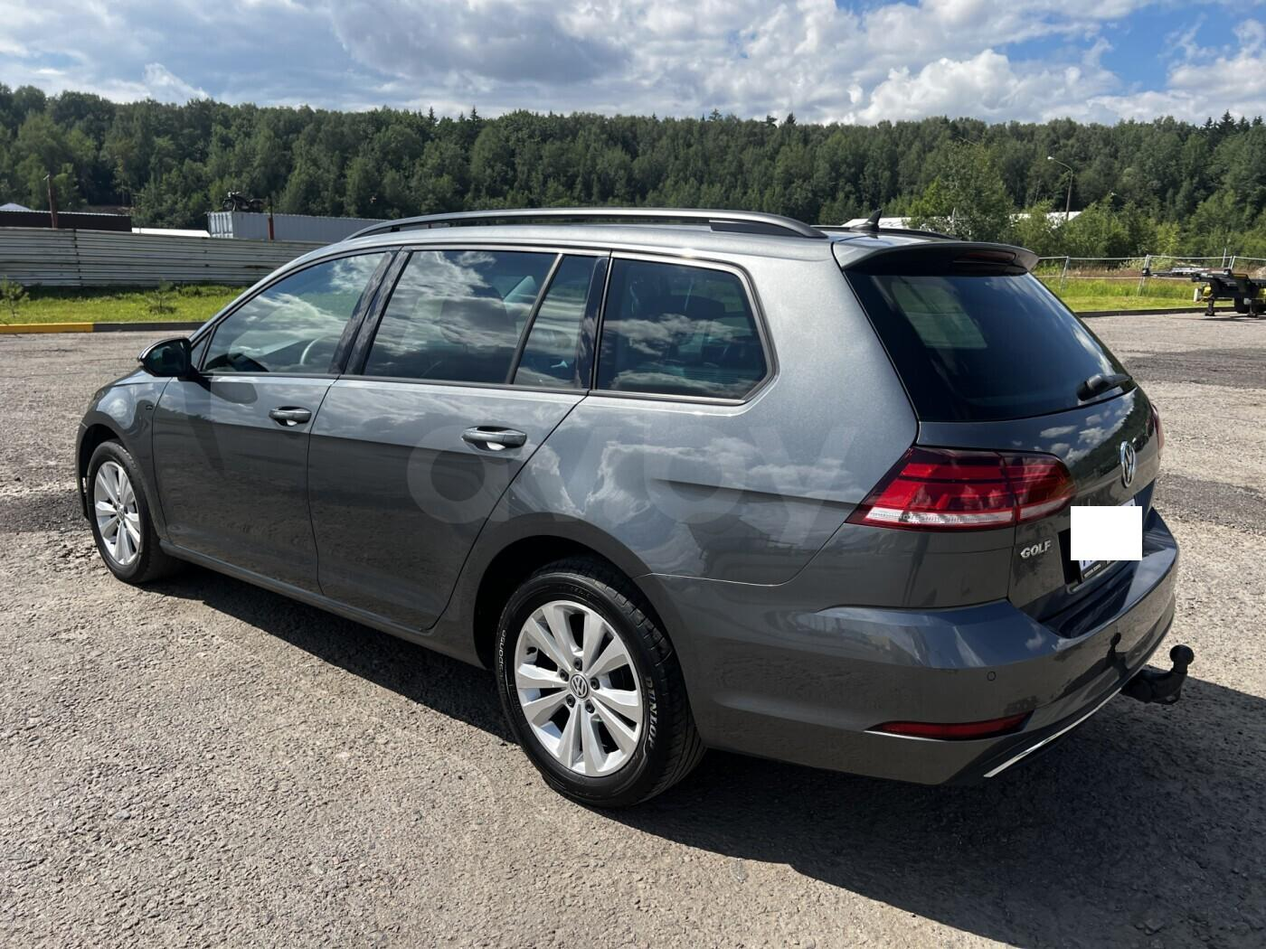Golf_2017-2021: (58, 210, 1186, 815)
